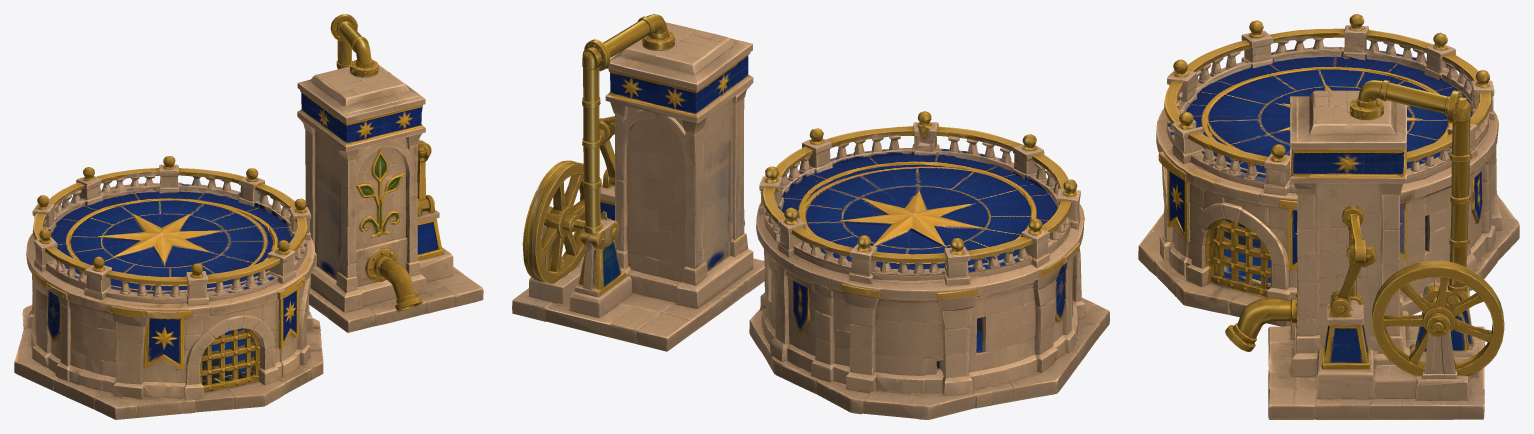
Rendered from sheet-purifier.glb.
3 views of the same model, side by side, from view 1: azimuth 30°, elevation 25°; view 2: azimuth 150°, elevation 25°; view 3: azimuth 270°, elevation 25° (orthographic). The views are drawn at different scales.
Parts seen in each view (by area): view 1: Mesh_0; view 2: Mesh_0; view 3: Mesh_0.
Boxes of the visible parts, x1,y1,x2,y2 form: Mesh_0: (14,14,483,419); Mesh_0: (512,14,1109,419); Mesh_0: (1138,14,1519,419).
Bounding box in the file's own units: 1.9 × 1.05 × 1.23.
1 material, 1 textured.
